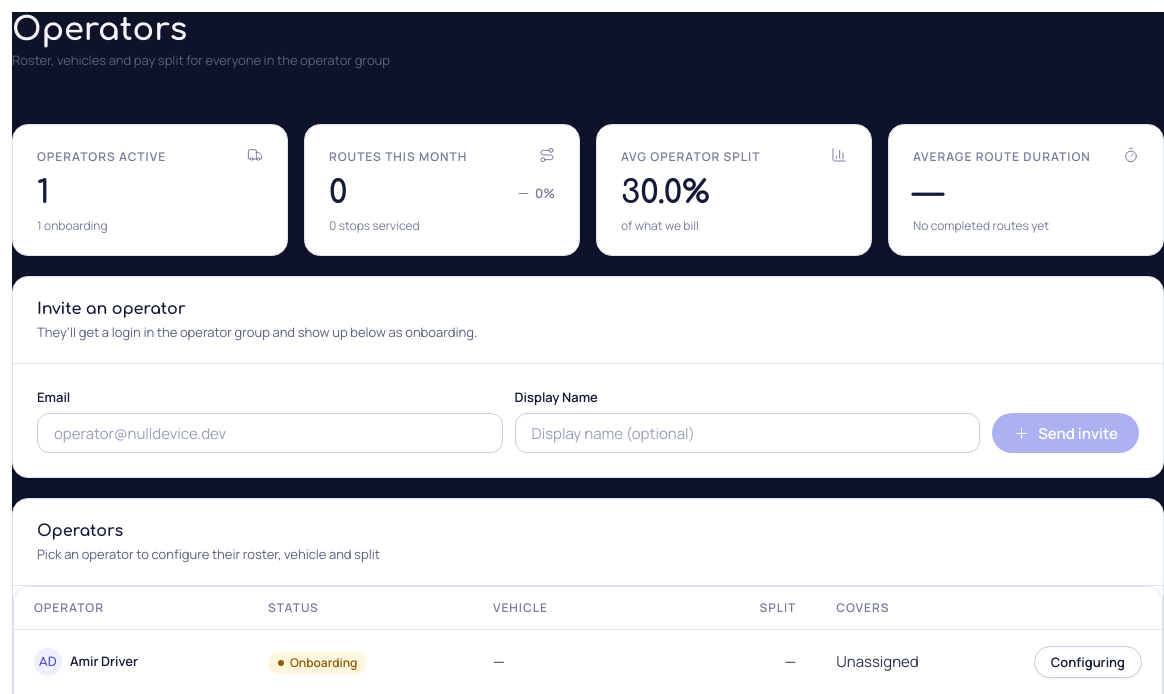
Test case: Administrator Operators page › tells the admin when the login was created but the invitation email failed to send
The width and height of the screenshot is (1164, 694).
In the field named "email for new operator": (270, 433) [37,413,503,453], type "new-driver@nulldevice.dev"
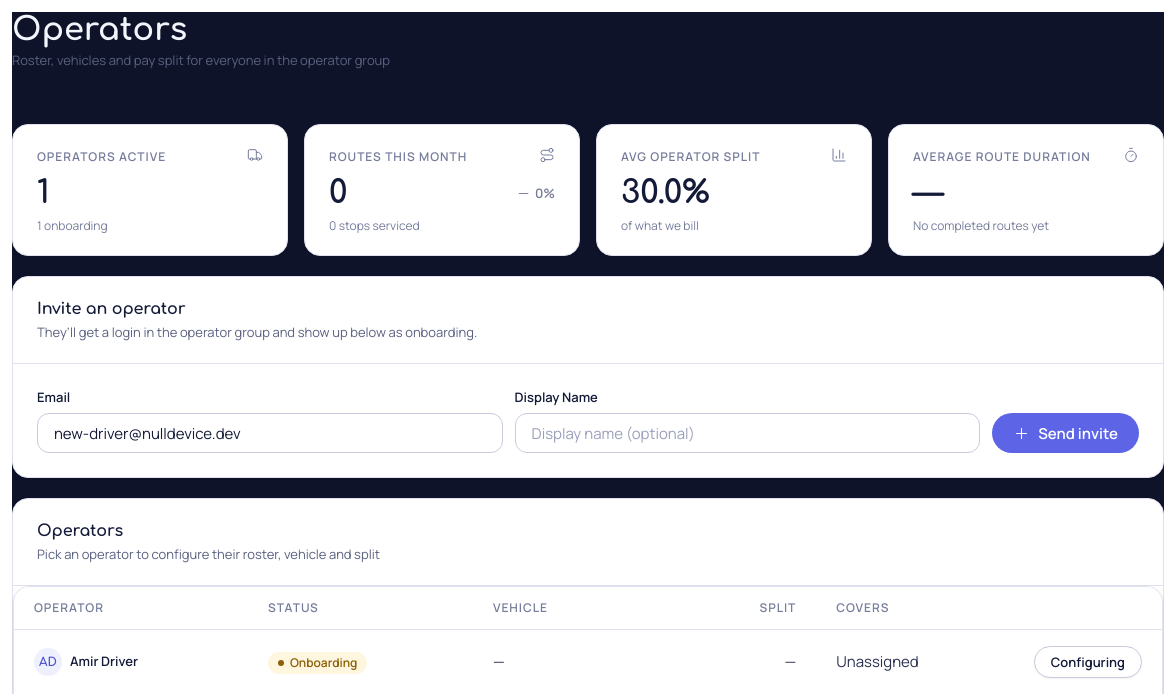
Click the button "Send invite": click(1066, 433) [992,413,1139,453]
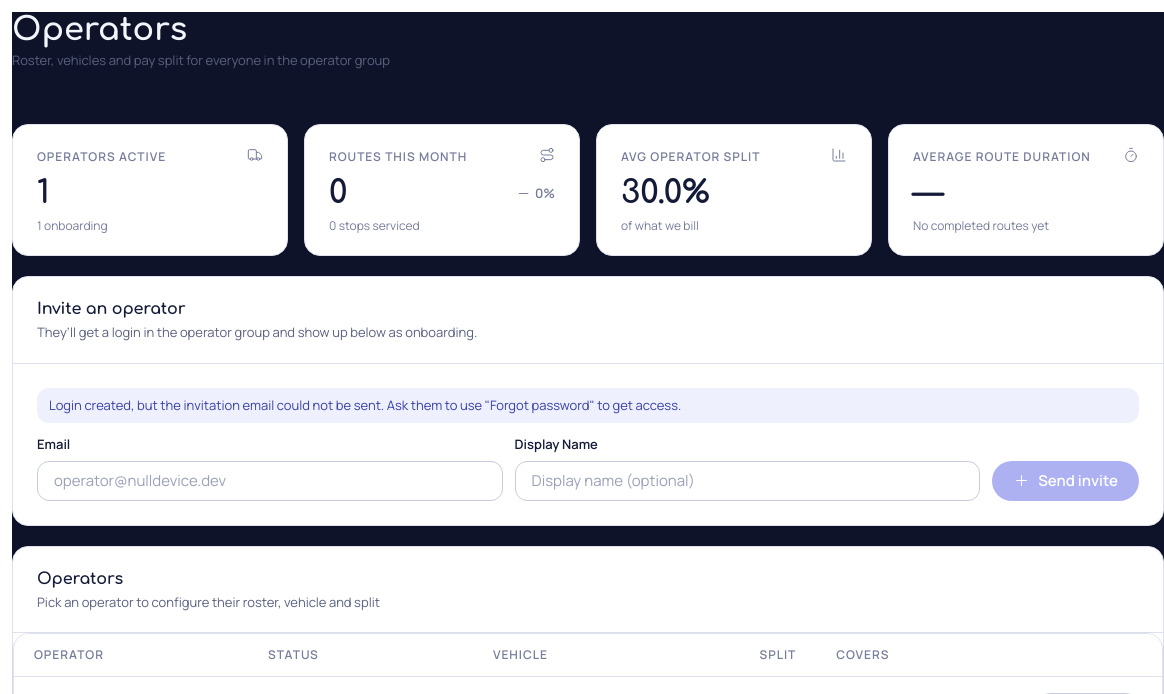
Expected: the text "invitation email could not be sent" is shown, [49,396,681,414]
